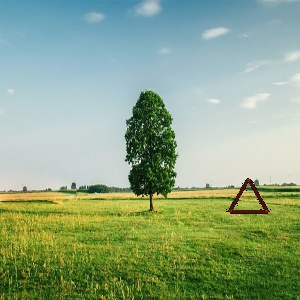triangle: (225, 176, 272, 216)
